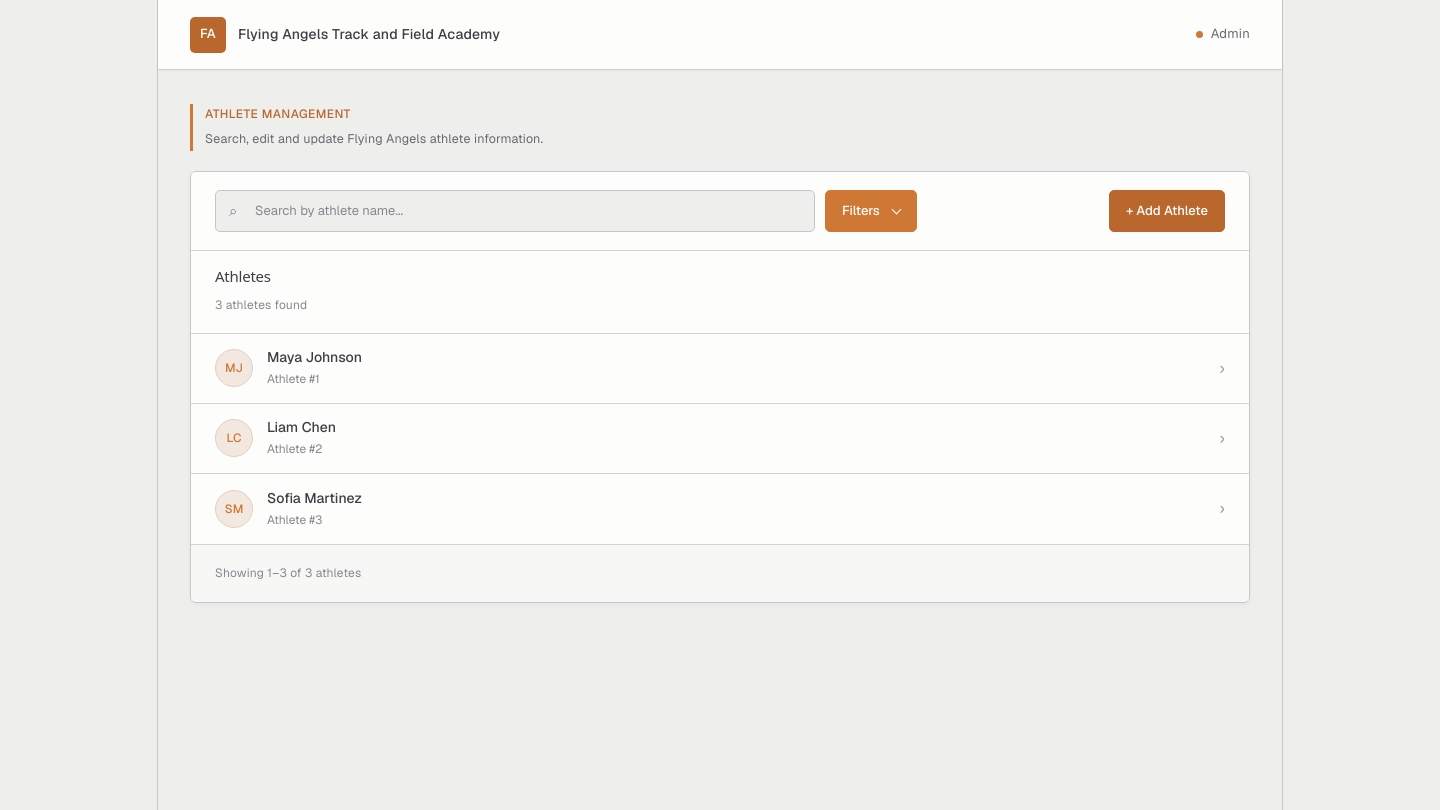
Test: UC-01 Athlete Directory - filters › filters by age group
Expected: the button "Maya Johnson" is shown, [191,334,1249,404]
Click the button "Filters" at (871, 210), box [825,190,917,232]
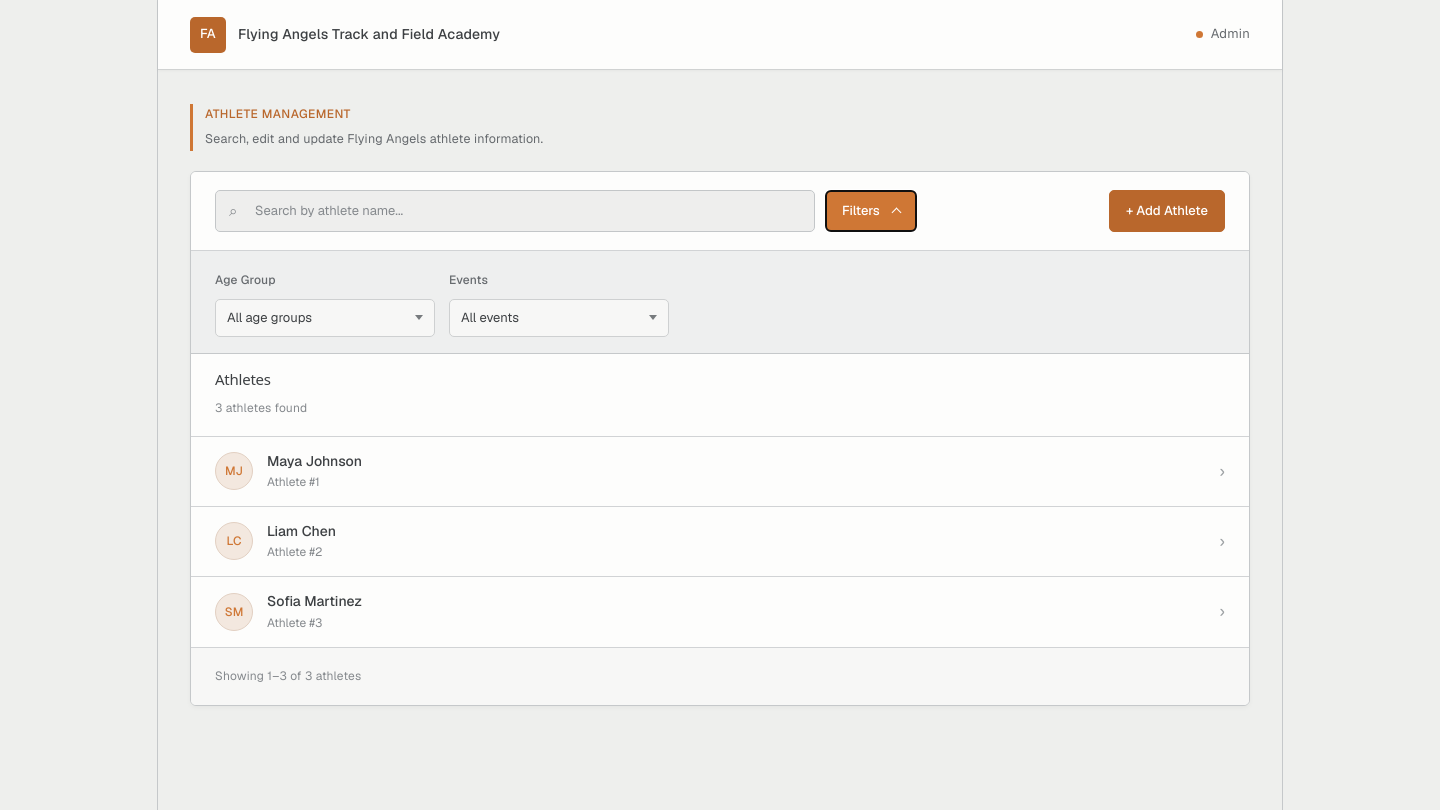
Click the button "All age groups" at (325, 318), box [215,299,435,337]
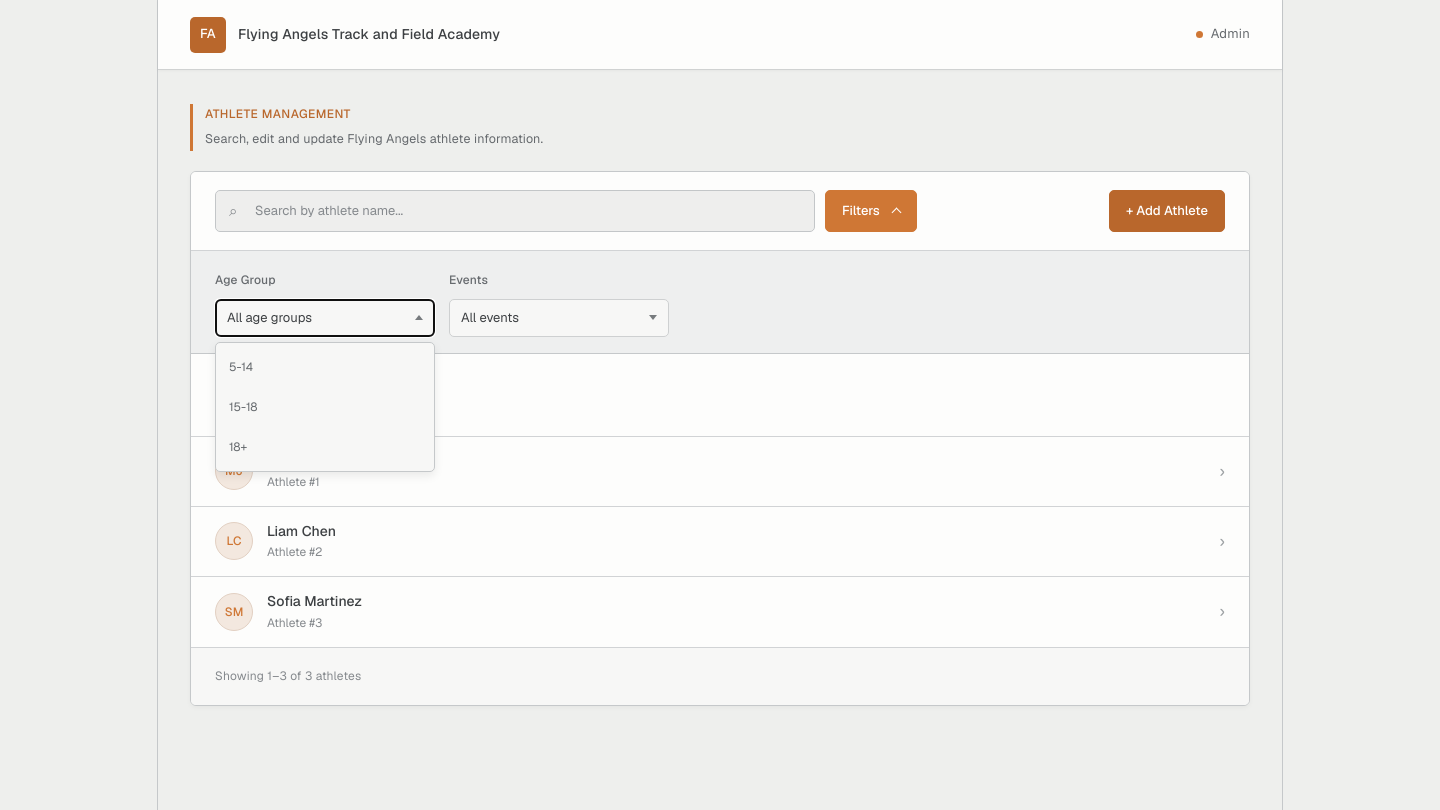
Click the button "15-18" at (325, 407), box [220,387,430,427]
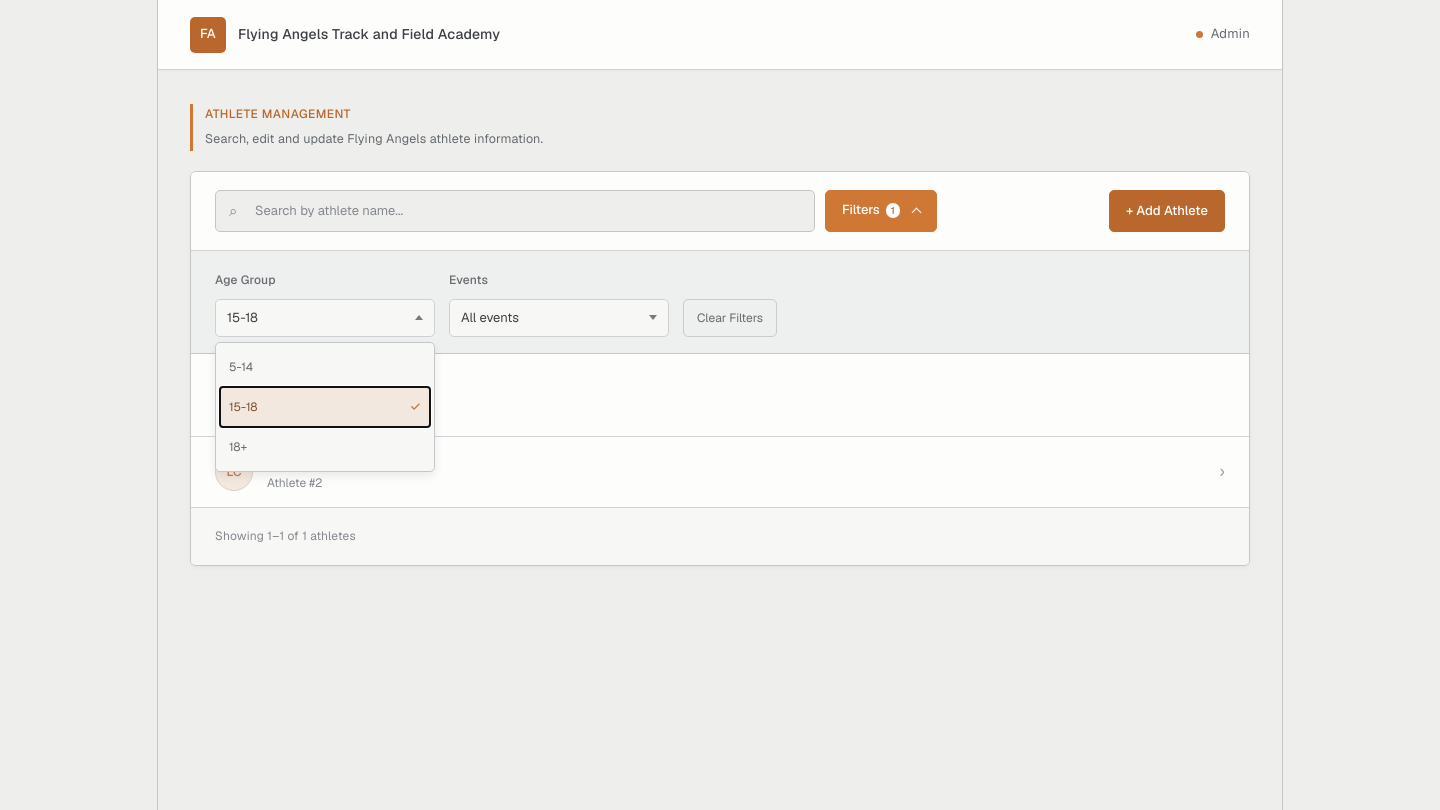
Result: the number of buttons "LC Liam Chen Athlete #2 ›" is 1 at [191,437,1249,507]
